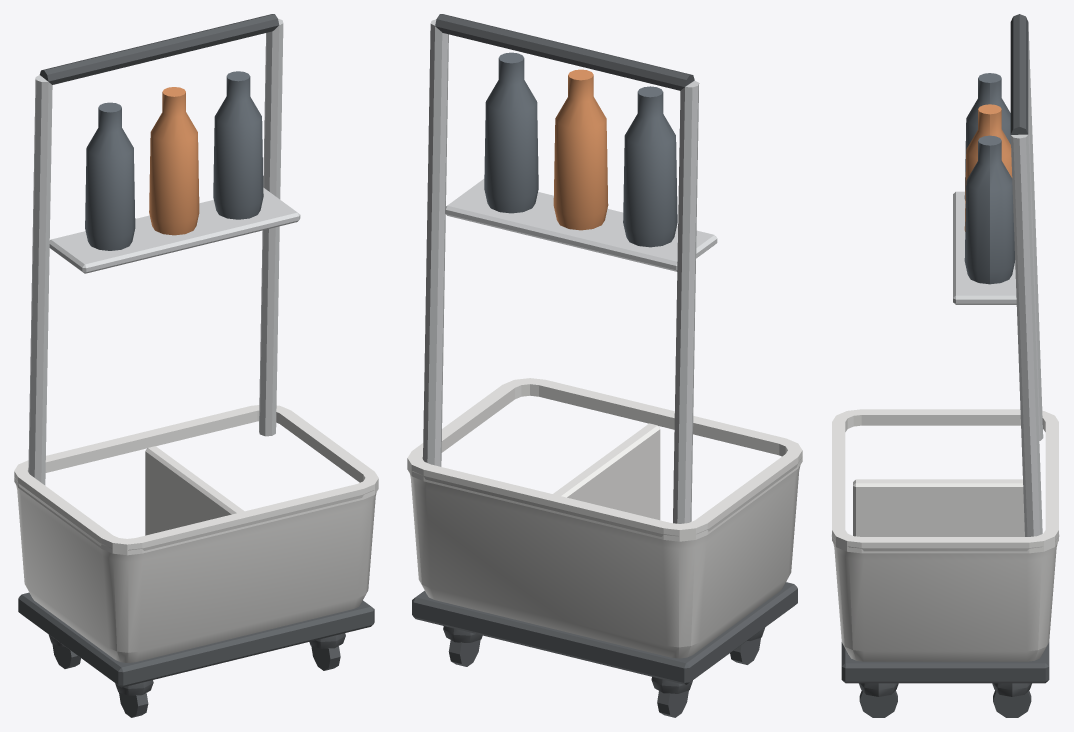
The model's file is home-appliances-and-utility-cleaning-caddy-trolley-e7bf36e7__14164.glb.
3 renders of one model, left to right at view 1: azimuth 30°, elevation 25°; view 2: azimuth 150°, elevation 25°; view 3: azimuth 270°, elevation 25°, orthographic. The views are drawn at different scales.
Parts seen in each view (by area): view 1: cleaning-caddy-trolley; view 2: cleaning-caddy-trolley; view 3: cleaning-caddy-trolley.
Part boxes in pixels (box(x1,y1,x2,y2)): cleaning-caddy-trolley: box(14, 14, 378, 717); cleaning-caddy-trolley: box(407, 14, 802, 717); cleaning-caddy-trolley: box(831, 14, 1059, 717).
Size of the model in its own units: 0.428 by 0.8907 by 0.308.
